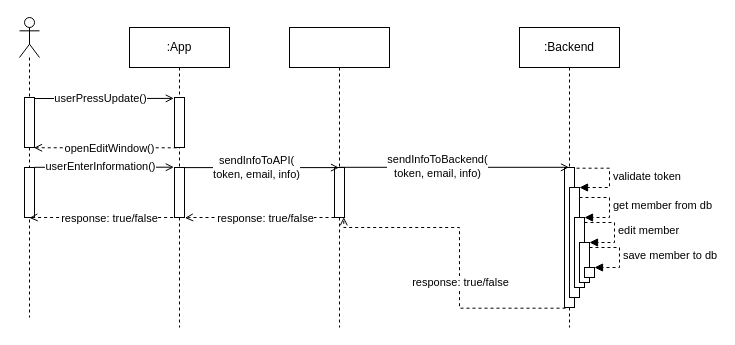
This 735x345 diagram has some shape labels left out. The centre of each missing label's shape, as x and y in pixels:
":Api" goes at pixel 339 177.
"User" goes at pixel 29 167.
